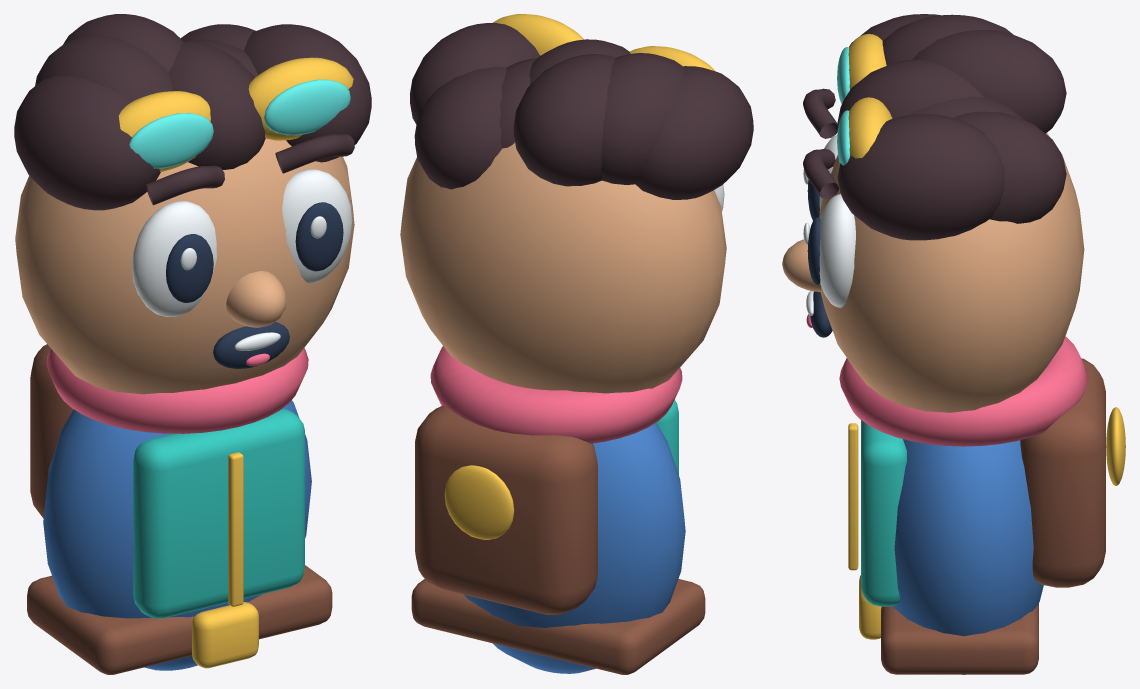
Rendered from hero.glb.
The picture shows the model from 3 angles, left to right: view 1: azimuth 30°, elevation 25°; view 2: azimuth 150°, elevation 25°; view 3: azimuth 270°, elevation 25°; orthographic projection. The views are drawn at different scales.
Visible parts, largest first — view 1: hero body; view 2: hero body; view 3: hero body.
Part boxes in pixels (box(x1,y1,x2,y2)): hero body: box(14, 14, 371, 674); hero body: box(400, 14, 753, 674); hero body: box(782, 14, 1125, 674).
Bounding box in the file's own units: 0.91 × 1.71 × 0.87.
